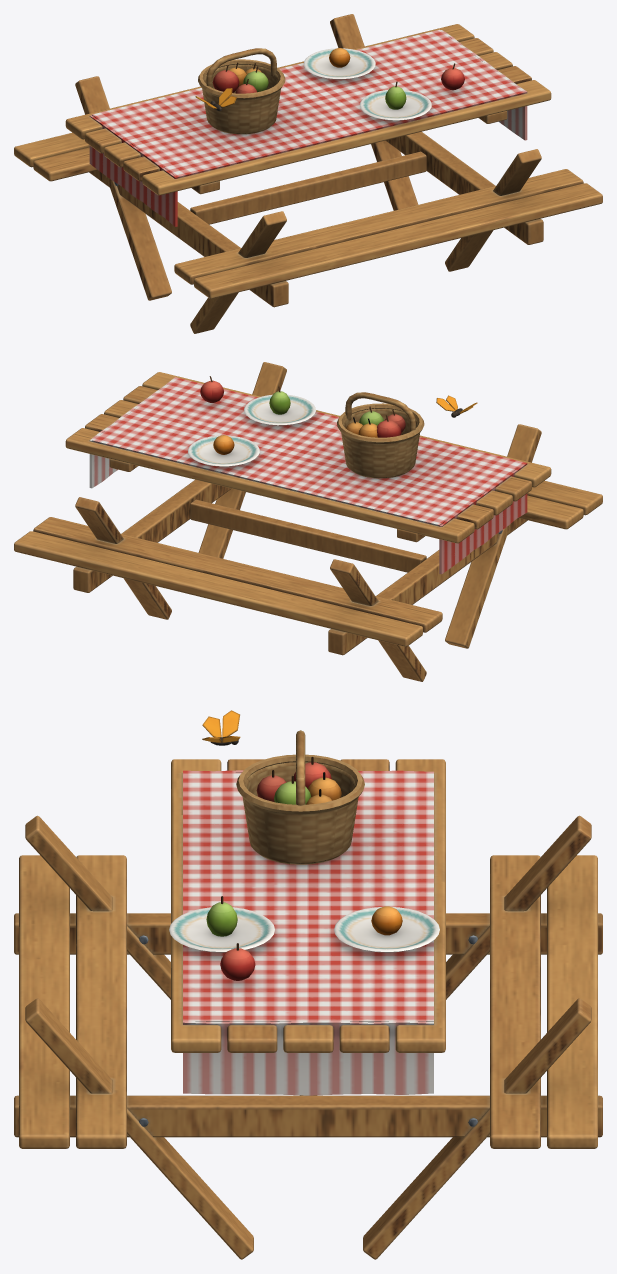
Rendered from picnic-table.fbx.
3 renders of one model, top to bottom at view 1: azimuth 30°, elevation 25°; view 2: azimuth 150°, elevation 25°; view 3: azimuth 270°, elevation 25°, orthographic. The views are drawn at different scales.
Visible parts, largest first — view 1: Body; view 2: Body; view 3: Body, Anim Bob.
Part boxes in pixels (box(x1,y1,x2,y2)): Body: box(14, 14, 602, 333); Body: box(14, 362, 602, 681); Body: box(14, 730, 602, 1259); Anim Bob: box(202, 710, 240, 745).
Bounding box in the file's own units: 1.7 × 1.04 × 1.5.
